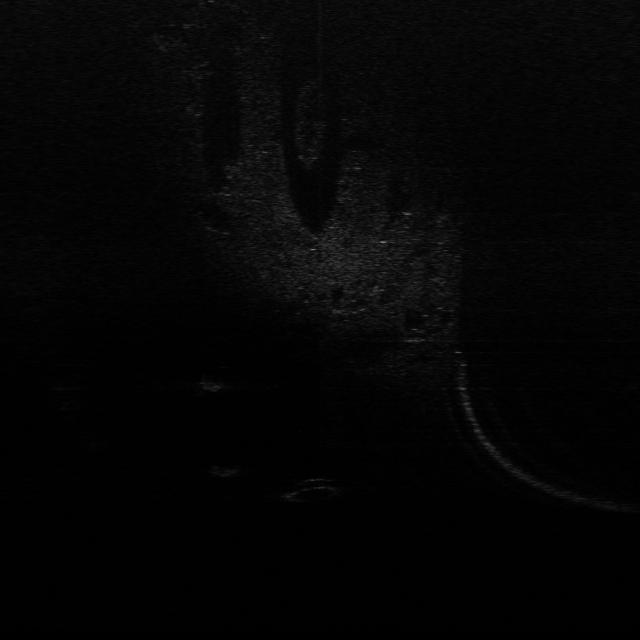cube: (206, 460, 243, 478)
square cage: (192, 371, 229, 394)
tyre: (278, 475, 342, 502)
